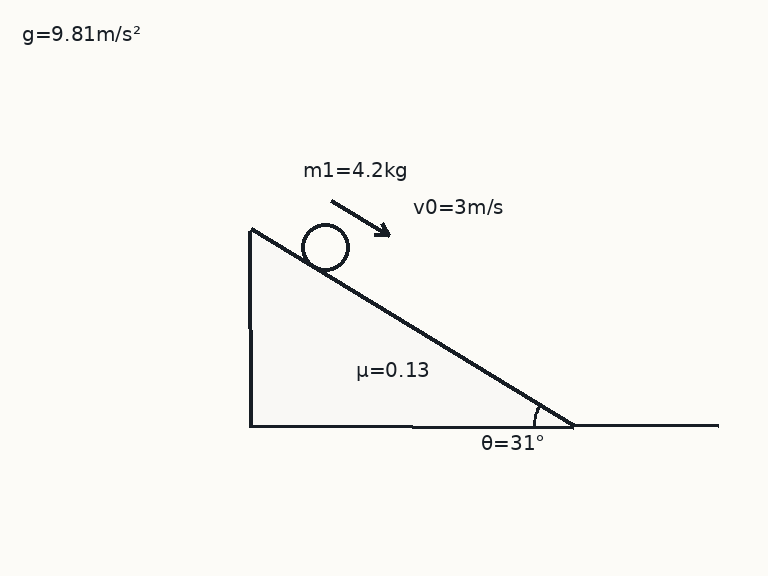ball: (299, 222, 351, 274)
ramp: (248, 228, 576, 427)
